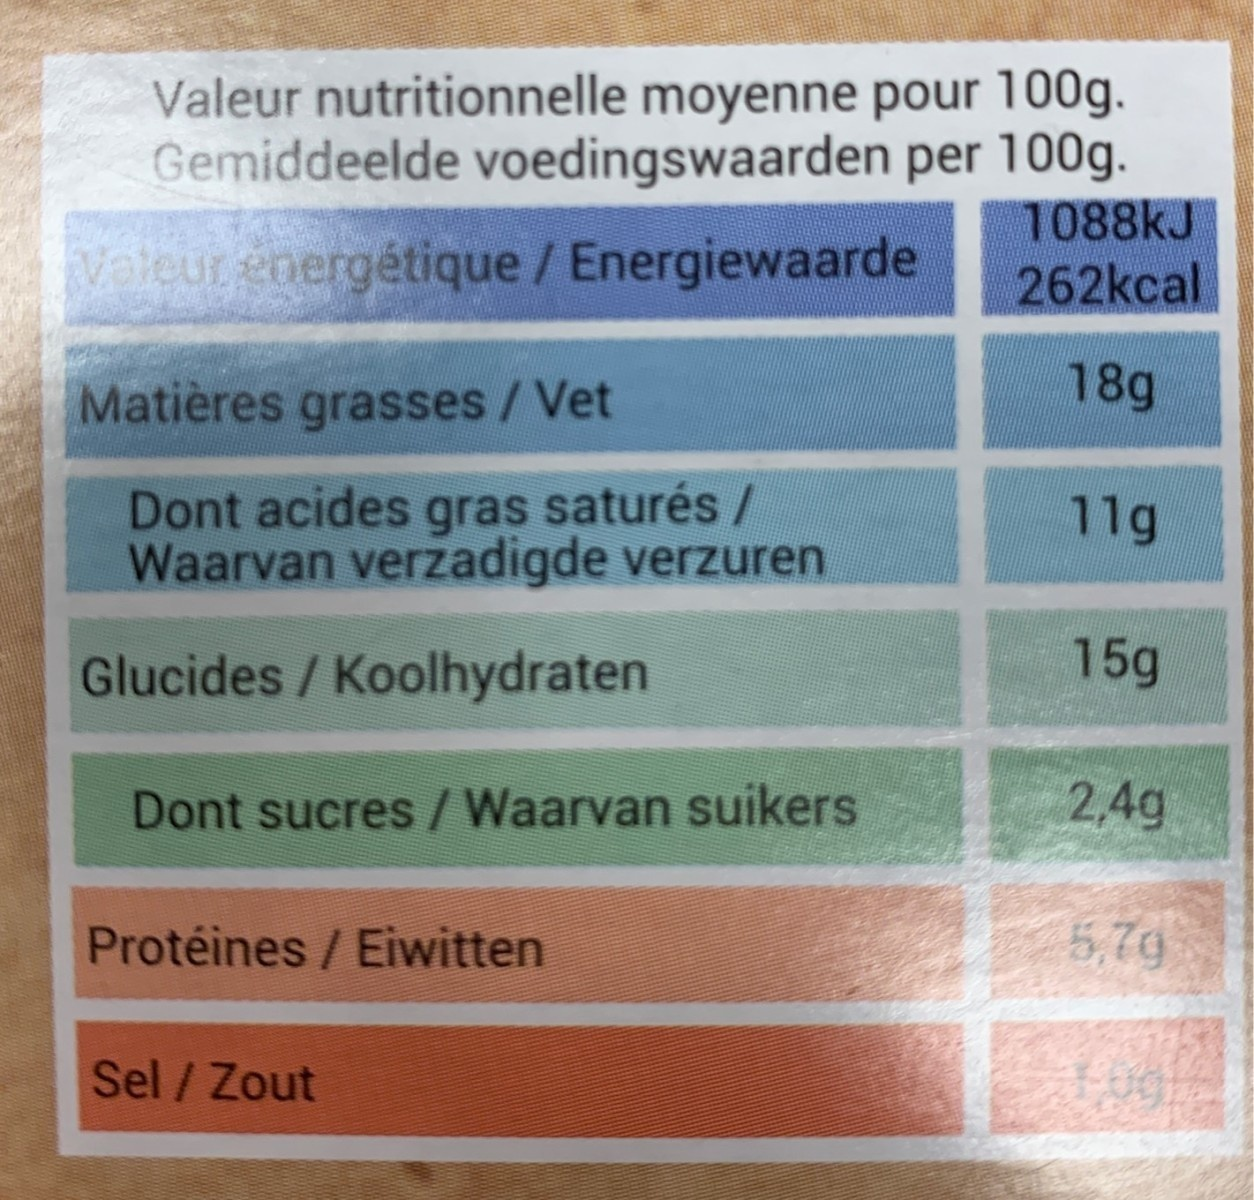column: (60, 213, 960, 1133), (979, 201, 1229, 1133)
table: (60, 212, 1230, 1137)
